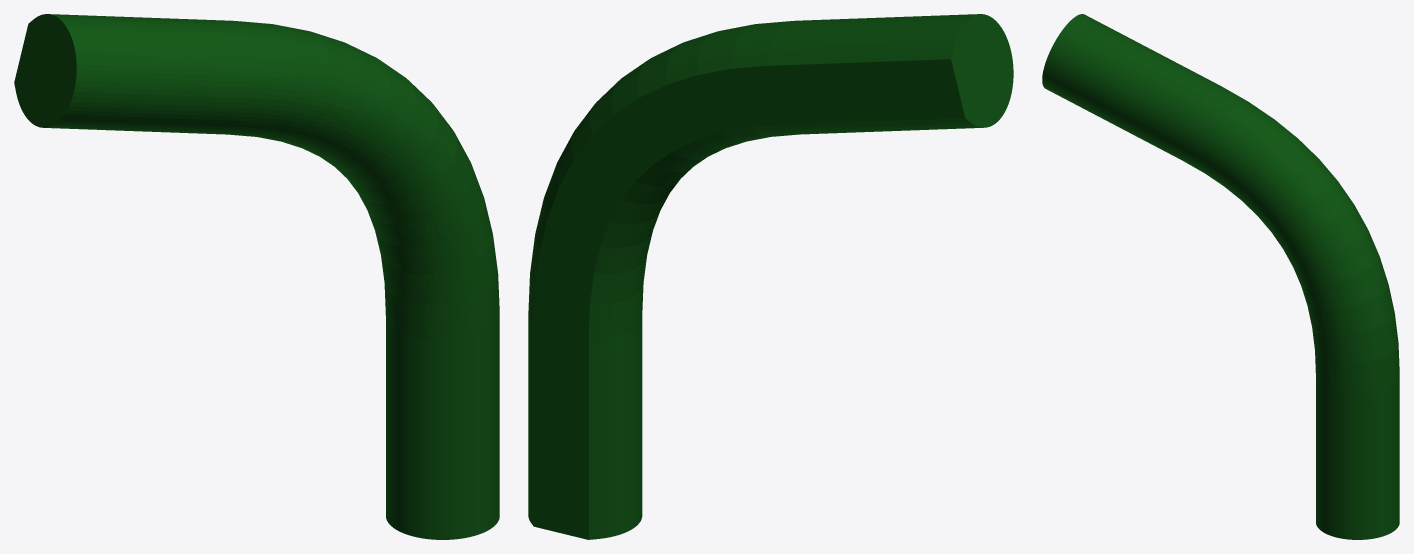
The model's file is stem_1B_75_L.glb.
The picture shows the model from 3 angles, left to right: view 1: azimuth 30°, elevation 25°; view 2: azimuth 150°, elevation 25°; view 3: azimuth 330°, elevation 25°; orthographic projection. The views are drawn at different scales.
Visible parts, largest first — view 1: stem_1B_75L; view 2: stem_1B_75L; view 3: stem_1B_75L.
Boxes of the visible parts, box(x1,y1,x2,y2) form: stem_1B_75L: box(14, 14, 499, 539); stem_1B_75L: box(528, 14, 1013, 539); stem_1B_75L: box(1042, 14, 1399, 539).
Size of the model in its own units: 0.0335 by 0.0412 by 0.00666.
